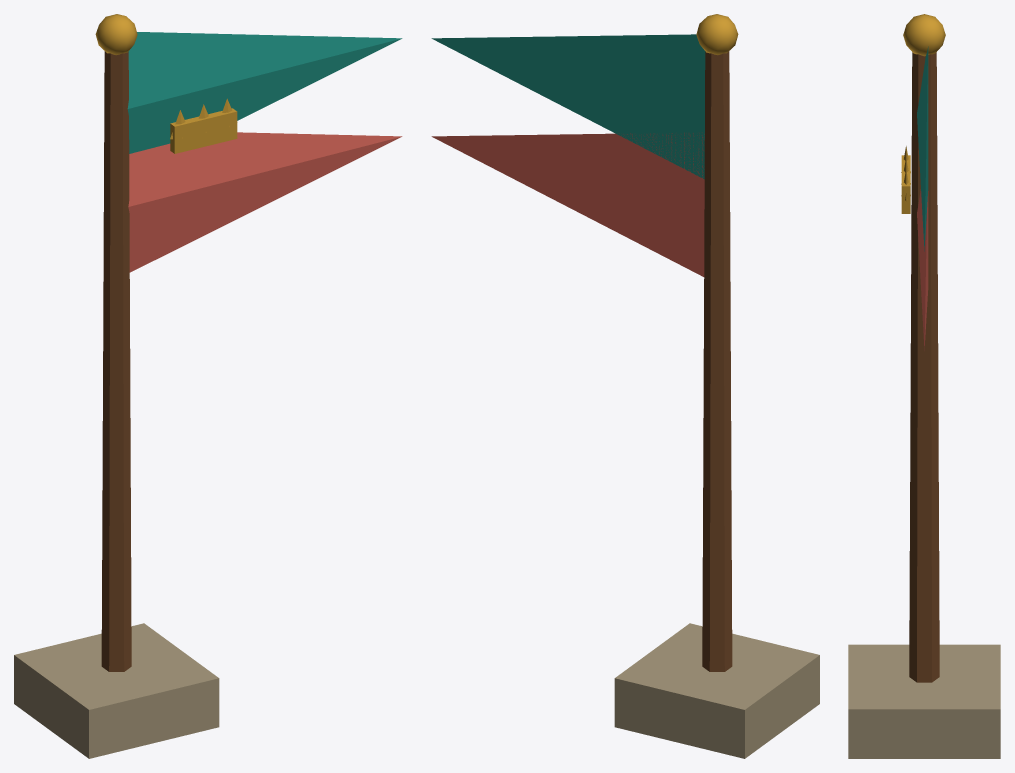
The model's file is duel_pennant.glb.
3 views of the same model, side by side, from view 1: azimuth 30°, elevation 25°; view 2: azimuth 150°, elevation 25°; view 3: azimuth 270°, elevation 25° (orthographic).
Parts seen in each view (by area): view 1: decor-duel_pennant; view 2: decor-duel_pennant; view 3: decor-duel_pennant.
Part boxes in pixels (<box>): decor-duel_pennant: <box>14,14,402,758</box>; decor-duel_pennant: <box>431,14,819,758</box>; decor-duel_pennant: <box>848,14,1000,758</box>.
Bounding box in the file's own units: 1.35 × 2.57 × 0.5001.
